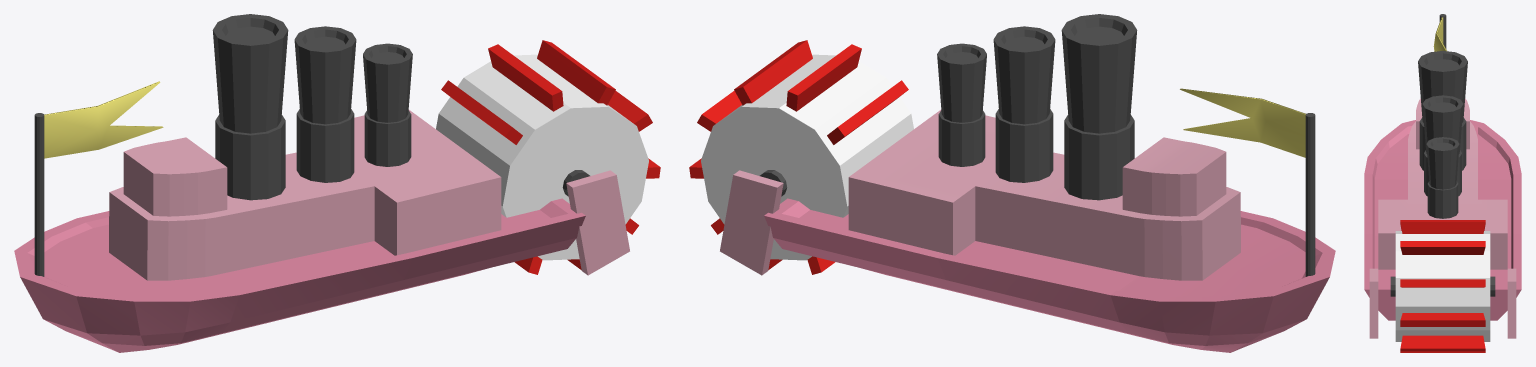
File: Boat_2.FBX
3 renders of one model, left to right at view 1: azimuth 30°, elevation 25°; view 2: azimuth 150°, elevation 25°; view 3: azimuth 270°, elevation 25°, orthographic. The views are drawn at different scales.
Parts seen in each view (by area): view 1: B_2_Hull, B_2_Wheel, B_2_Stack_1, B_2_Stack_2, B_2_Stack_3, B_2_Left_rutter, B_2_Flag; view 2: B_2_Hull, B_2_Wheel, B_2_Stack_1, B_2_Stack_2, B_2_Stack_3, B_2_right_rutter, B_2_Flag; view 3: B_2_Hull, B_2_Wheel, B_2_Stack_1, B_2_Stack_3, B_2_Stack_2, B_2_Left_rutter, B_2_right_rutter, B_2_Flag.
Boxes of the visible parts, left/top/right/bottom form: B_2_Hull: left=14, top=109, right=585, bottom=352; B_2_Wheel: left=436, top=40, right=660, bottom=274; B_2_Stack_1: left=212, top=14, right=288, bottom=200; B_2_Stack_2: left=294, top=26, right=356, bottom=182; B_2_Stack_3: left=363, top=43, right=412, bottom=166; B_2_Left_rutter: left=566, top=170, right=629, bottom=275; B_2_Flag: left=44, top=81, right=163, bottom=158; B_2_Hull: left=764, top=109, right=1335, bottom=352; B_2_Wheel: left=689, top=40, right=913, bottom=274; B_2_Stack_1: left=1061, top=14, right=1137, bottom=200; B_2_Stack_2: left=993, top=26, right=1055, bottom=182; B_2_Stack_3: left=937, top=43, right=986, bottom=166; B_2_right_rutter: left=720, top=170, right=783, bottom=275; B_2_Flag: left=1180, top=88, right=1305, bottom=157; B_2_Hull: left=1364, top=14, right=1521, bottom=320; B_2_Wheel: left=1390, top=220, right=1495, bottom=352; B_2_Stack_1: left=1418, top=51, right=1467, bottom=170; B_2_Stack_3: left=1426, top=137, right=1459, bottom=218; B_2_Stack_2: left=1422, top=95, right=1463, bottom=196; B_2_Left_rutter: left=1369, top=268, right=1378, bottom=338; B_2_right_rutter: left=1507, top=268, right=1516, bottom=338; B_2_Flag: left=1433, top=17, right=1446, bottom=51.
Size of the model in its own units: 122 by 41.35 by 55.82.
